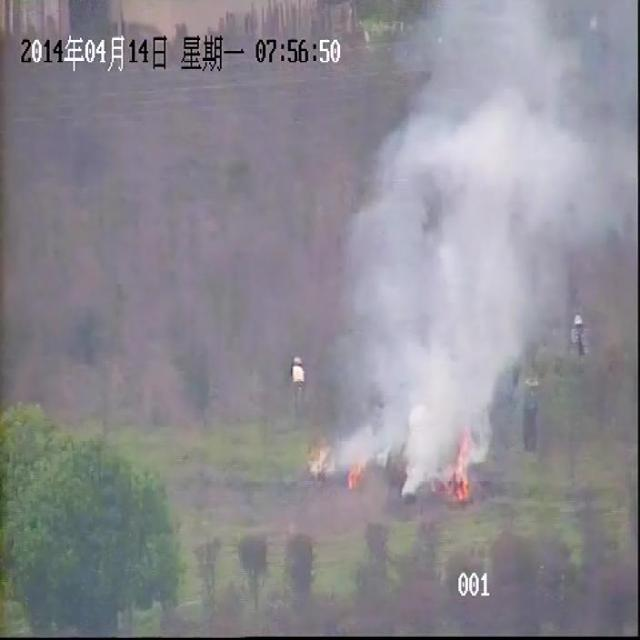fire: (442, 426, 474, 499), (342, 454, 371, 488)
smoke: (322, 3, 633, 497)
